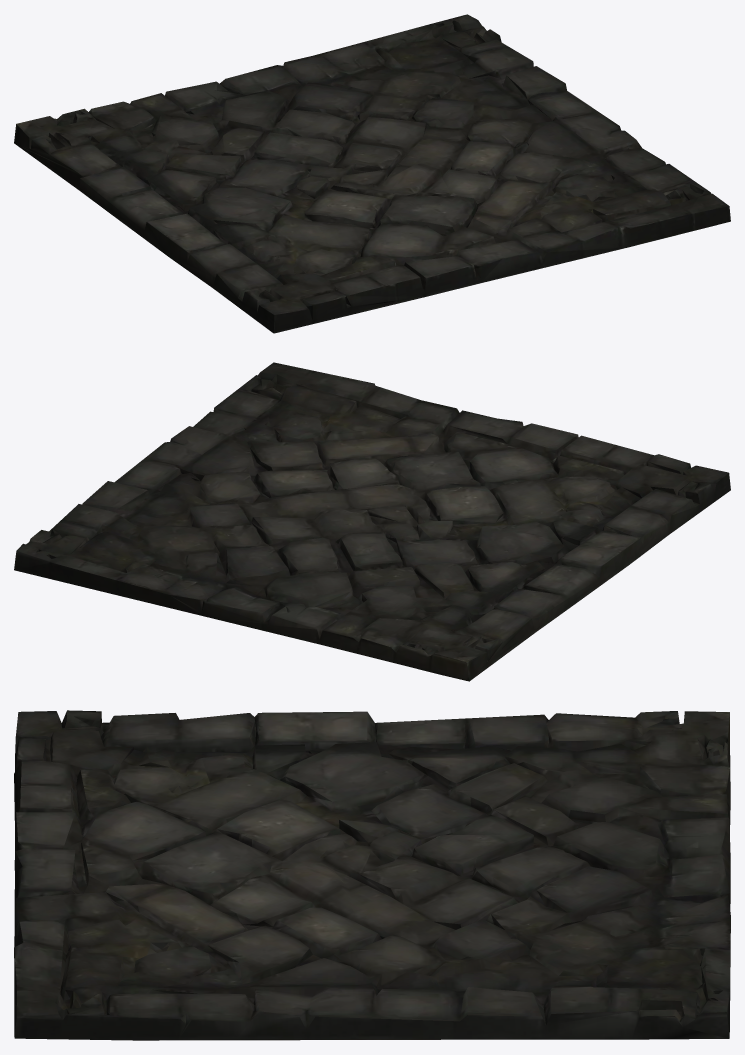
The model's file is blk_floor.glb.
3 renders of one model, top to bottom at view 1: azimuth 30°, elevation 25°; view 2: azimuth 150°, elevation 25°; view 3: azimuth 270°, elevation 25°, orthographic. The views are drawn at different scales.
Parts seen in each view (by area): view 1: Mesh_0; view 2: Mesh_0; view 3: Mesh_0.
Boxes of the visible parts, x1,y1,x2,y2 form: Mesh_0: [14, 14, 730, 333]; Mesh_0: [14, 362, 730, 681]; Mesh_0: [14, 710, 730, 1040].
Bounding box in the file's own units: 2.02 × 0.0892 × 2.
Materials: 1 (1 with a texture image).
